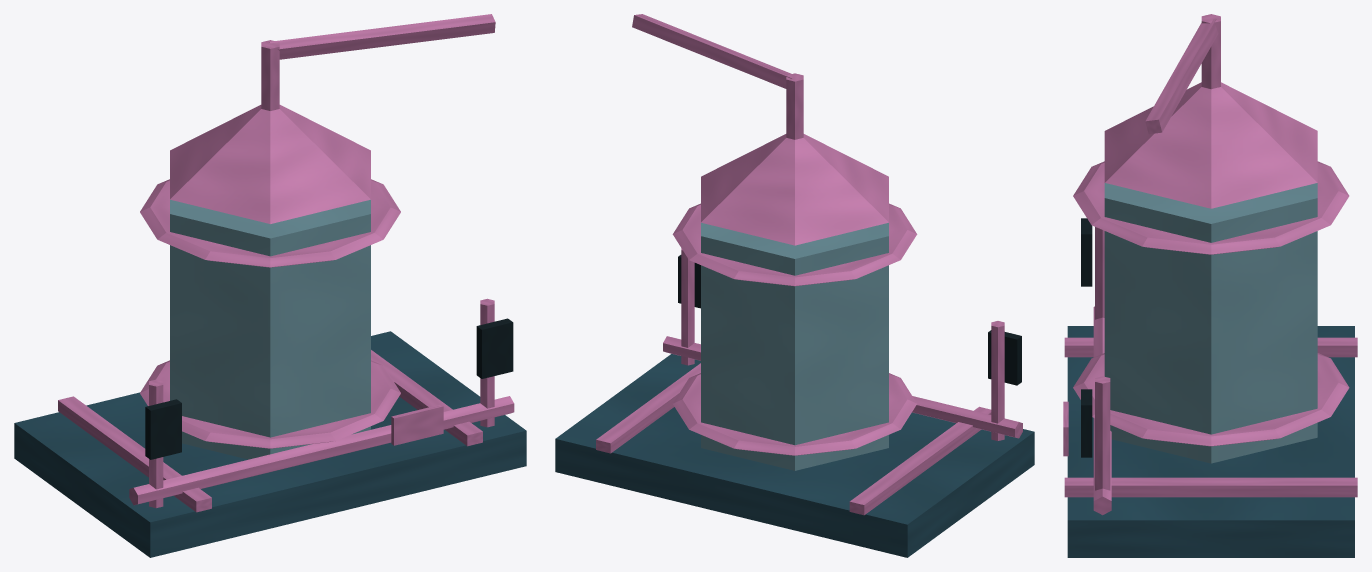
File: atlas100-s061-a02.lod1.glb
The picture shows the model from 3 angles, left to right: view 1: azimuth 30°, elevation 25°; view 2: azimuth 150°, elevation 25°; view 3: azimuth 270°, elevation 25°; orthographic projection. The views are drawn at different scales.
Visible parts, largest first — view 1: atlas100-s061-a02:part-003, atlas100-s061-a02:part-000, atlas100-s061-a02:part-007, atlas100-s061-a02:part-005, atlas100-s061-a02:part-014, atlas100-s061-a02:part-004, atlas100-s061-a02:part-009, atlas100-s061-a02:part-001, atlas100-s061-a02:part-013, atlas100-s061-a02:part-011, atlas100-s061-a02:part-002, atlas100-s061-a02:part-015 (+3 smaller); view 2: atlas100-s061-a02:part-003, atlas100-s061-a02:part-000, atlas100-s061-a02:part-007, atlas100-s061-a02:part-004, atlas100-s061-a02:part-005, atlas100-s061-a02:part-001, atlas100-s061-a02:part-009, atlas100-s061-a02:part-014, atlas100-s061-a02:part-002, atlas100-s061-a02:part-010, atlas100-s061-a02:part-012, atlas100-s061-a02:part-008 (+1 smaller); view 3: atlas100-s061-a02:part-003, atlas100-s061-a02:part-000, atlas100-s061-a02:part-007, atlas100-s061-a02:part-005, atlas100-s061-a02:part-004, atlas100-s061-a02:part-002, atlas100-s061-a02:part-009, atlas100-s061-a02:part-012, atlas100-s061-a02:part-001, atlas100-s061-a02:part-014, atlas100-s061-a02:part-008, atlas100-s061-a02:part-010 (+2 smaller).
Boxes of the visible parts, bbox=[...] form: atlas100-s061-a02:part-003: bbox=[170, 199, 370, 459]; atlas100-s061-a02:part-000: bbox=[14, 331, 526, 557]; atlas100-s061-a02:part-007: bbox=[170, 105, 370, 223]; atlas100-s061-a02:part-005: bbox=[140, 179, 400, 267]; atlas100-s061-a02:part-014: bbox=[129, 396, 514, 505]; atlas100-s061-a02:part-004: bbox=[140, 360, 400, 448]; atlas100-s061-a02:part-009: bbox=[269, 14, 495, 59]; atlas100-s061-a02:part-001: bbox=[58, 396, 211, 512]; atlas100-s061-a02:part-013: bbox=[476, 318, 513, 378]; atlas100-s061-a02:part-011: bbox=[145, 399, 181, 459]; atlas100-s061-a02:part-002: bbox=[371, 350, 482, 446]; atlas100-s061-a02:part-015: bbox=[391, 404, 443, 445]; atlas100-s061-a02:part-003: bbox=[701, 222, 888, 470]; atlas100-s061-a02:part-000: bbox=[555, 354, 1034, 557]; atlas100-s061-a02:part-007: bbox=[701, 134, 888, 245]; atlas100-s061-a02:part-004: bbox=[673, 373, 916, 455]; atlas100-s061-a02:part-005: bbox=[672, 203, 917, 286]; atlas100-s061-a02:part-001: bbox=[849, 406, 991, 515]; atlas100-s061-a02:part-009: bbox=[632, 14, 792, 88]; atlas100-s061-a02:part-014: bbox=[663, 336, 1022, 438]; atlas100-s061-a02:part-002: bbox=[596, 363, 700, 453]; atlas100-s061-a02:part-010: bbox=[991, 321, 1004, 440]; atlas100-s061-a02:part-012: bbox=[681, 248, 694, 365]; atlas100-s061-a02:part-008: bbox=[786, 73, 803, 139]; atlas100-s061-a02:part-003: bbox=[1104, 183, 1317, 463]; atlas100-s061-a02:part-000: bbox=[1067, 326, 1354, 557]; atlas100-s061-a02:part-007: bbox=[1104, 82, 1317, 208]; atlas100-s061-a02:part-005: bbox=[1073, 161, 1349, 254]; atlas100-s061-a02:part-004: bbox=[1073, 353, 1349, 446]; atlas100-s061-a02:part-002: bbox=[1064, 477, 1357, 497]; atlas100-s061-a02:part-009: bbox=[1145, 18, 1218, 134]; atlas100-s061-a02:part-012: bbox=[1095, 376, 1110, 490]; atlas100-s061-a02:part-001: bbox=[1064, 337, 1357, 357]; atlas100-s061-a02:part-014: bbox=[1093, 306, 1111, 515]; atlas100-s061-a02:part-008: bbox=[1201, 14, 1220, 89]; atlas100-s061-a02:part-010: bbox=[1095, 227, 1104, 319].
Size of the model in its own units: 2.95 by 3.06 by 1.85.
Materials: 5 (5 with a texture image).
